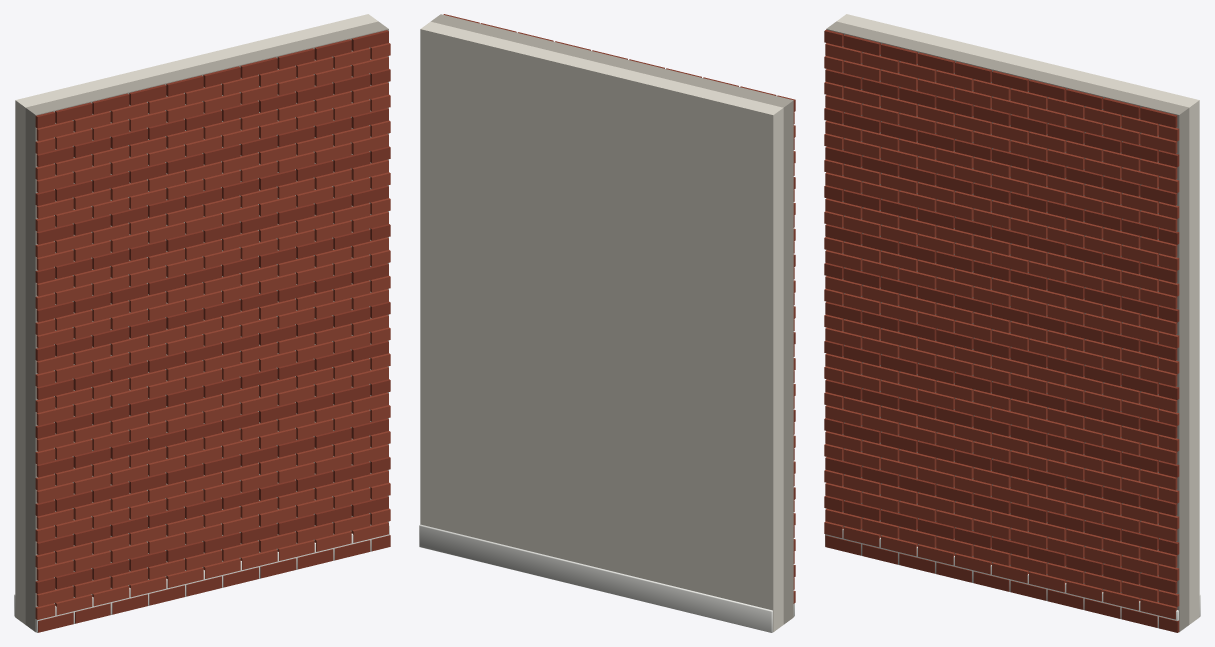
File: Wall_Brick_2m.glb
3 renders of one model, left to right at view 1: azimuth 30°, elevation 25°; view 2: azimuth 150°, elevation 25°; view 3: azimuth 330°, elevation 25°, orthographic.
Visible parts, largest first — view 1: Wall_Brick_2m; view 2: Wall_Brick_2m; view 3: Wall_Brick_2m.
Boxes of the visible parts, x1=… form: Wall_Brick_2m: x1=14, y1=14, x2=390, y2=632; Wall_Brick_2m: x1=419, y1=14, x2=795, y2=632; Wall_Brick_2m: x1=824, y1=14, x2=1200, y2=632.
Bounding box in the file's own units: 2 × 2.8 × 0.232.
